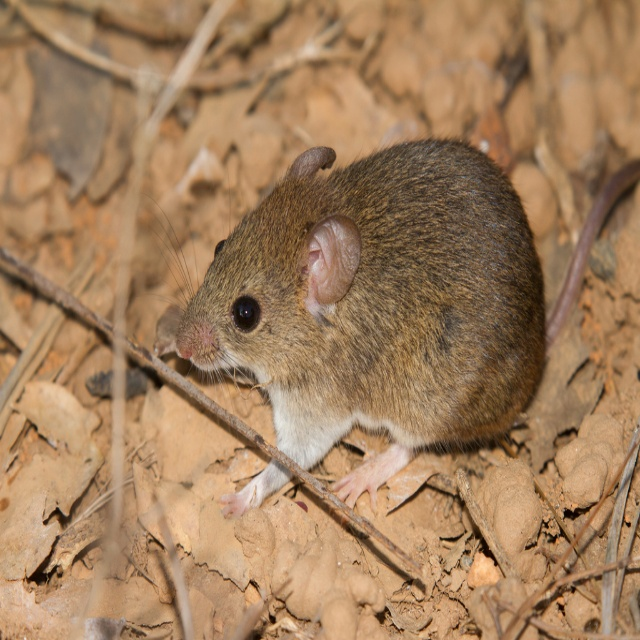Hamster: (140, 124, 640, 520)
